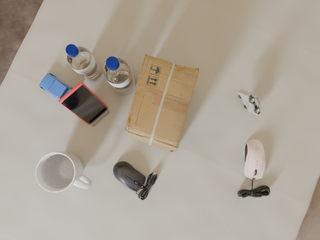bottle: (66, 44, 102, 82), (103, 57, 135, 94)
box: (125, 54, 199, 152)
cup: (36, 152, 92, 192)
mouse: (113, 162, 157, 200), (244, 139, 265, 181)
phone: (58, 82, 108, 124)
toy_car: (39, 73, 72, 99), (238, 89, 260, 116)
